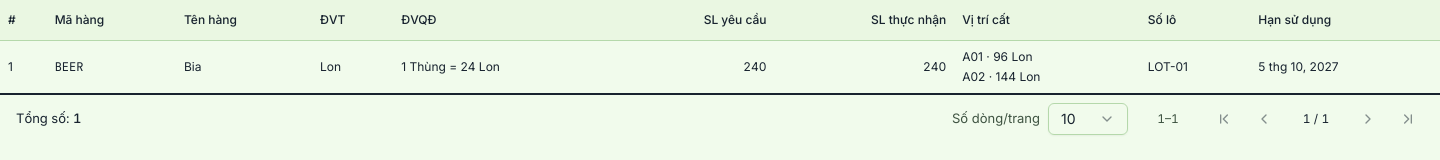
Test: inbound goods preview › explains ĐVQĐ on hover
The image size is (1440, 160).
Hover over the text named "Đơn vị quy đổi" at (419, 19), box left=401, top=12, right=436, bottom=27
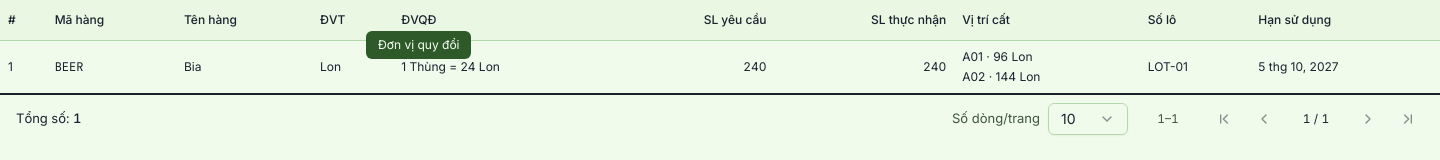
Expected: the tooltip reads "Đơn vị quy đổi", left=378, top=37, right=460, bottom=52
